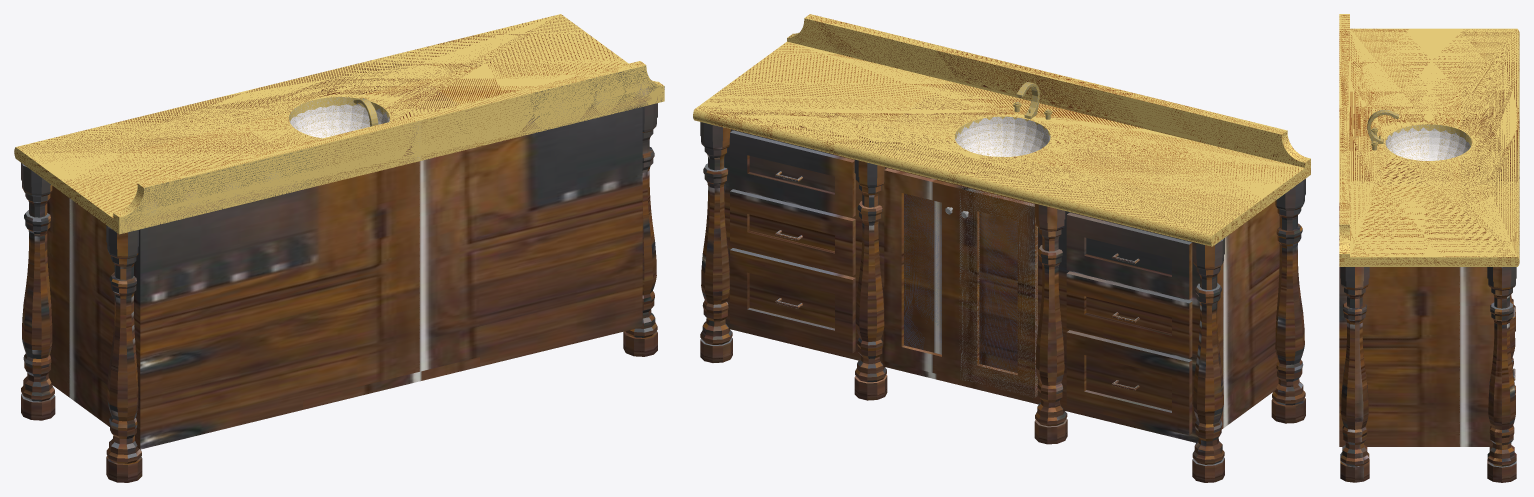
The picture shows the model from 3 angles, left to right: view 1: azimuth 30°, elevation 25°; view 2: azimuth 150°, elevation 25°; view 3: azimuth 270°, elevation 25°; orthographic projection. The views are drawn at different scales.
Visible parts, largest first — view 1: mesh1_mesh1-geometry, mesh38_mesh38-geometry, mesh36_mesh36-geometry, mesh39_mesh39-geometry, mesh3_mesh3-geometry; view 2: mesh1_mesh1-geometry, mesh14_mesh14-geometry, mesh12_mesh12-geometry, mesh20_mesh20-geometry, mesh29_mesh29-geometry, mesh18_mesh18-geometry, mesh16_mesh16-geometry, mesh27_mesh27-geometry, mesh25_mesh25-geometry, mesh36_mesh36-geometry, mesh38_mesh38-geometry, mesh37_mesh37-geometry (+3 smaller); view 3: mesh1_mesh1-geometry, mesh37_mesh37-geometry, mesh39_mesh39-geometry, mesh3_mesh3-geometry, mesh6_mesh6-geometry, mesh35_mesh35-geometry.
Boxes of the visible parts, x1,y1,x2,y2 form: mesh1_mesh1-geometry: (14, 14, 664, 449); mesh38_mesh38-geometry: (106, 225, 142, 482); mesh36_mesh36-geometry: (21, 163, 55, 420); mesh39_mesh39-geometry: (623, 103, 657, 356); mesh3_mesh3-geometry: (289, 104, 389, 138); mesh1_mesh1-geometry: (693, 14, 1310, 442); mesh14_mesh14-geometry: (959, 186, 1037, 397); mesh12_mesh12-geometry: (884, 168, 962, 379); mesh20_mesh20-geometry: (1066, 330, 1192, 435); mesh29_mesh29-geometry: (730, 248, 855, 353); mesh18_mesh18-geometry: (1066, 271, 1192, 358); mesh16_mesh16-geometry: (1066, 212, 1192, 299); mesh27_mesh27-geometry: (730, 189, 855, 276); mesh25_mesh25-geometry: (730, 130, 855, 217); mesh36_mesh36-geometry: (1192, 238, 1224, 482); mesh38_mesh38-geometry: (1271, 178, 1305, 423); mesh37_mesh37-geometry: (700, 122, 732, 362); mesh1_mesh1-geometry: (1339, 14, 1519, 446); mesh37_mesh37-geometry: (1487, 267, 1516, 482); mesh39_mesh39-geometry: (1340, 267, 1369, 482); mesh3_mesh3-geometry: (1385, 127, 1470, 160); mesh6_mesh6-geometry: (1367, 110, 1398, 143); mesh35_mesh35-geometry: (1510, 294, 1515, 406).
Size of the model in its own units: 0.8499 by 0.4448 by 0.2824.
